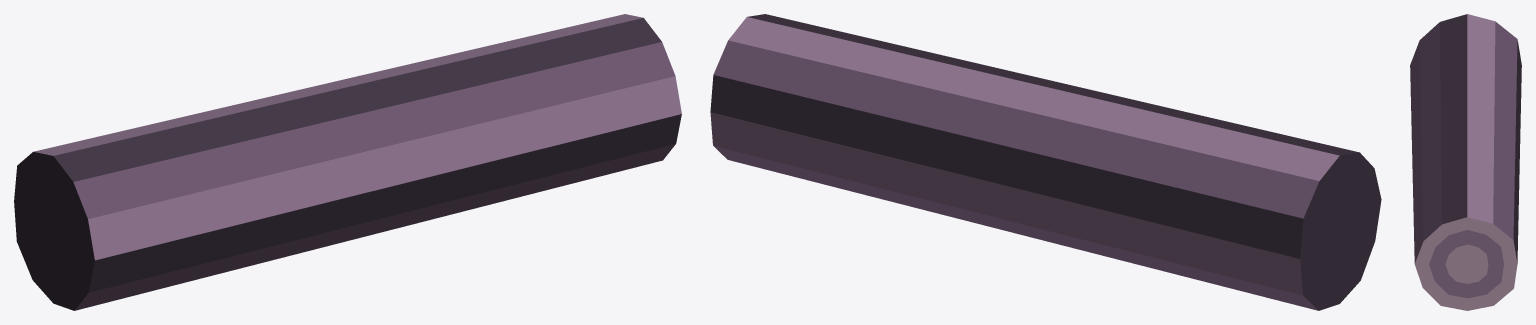
The model's file is TW_LOG_CUT_2M_A_LOD0.glb.
3 renders of one model, left to right at view 1: azimuth 30°, elevation 25°; view 2: azimuth 150°, elevation 25°; view 3: azimuth 270°, elevation 25°, orthographic. The views are drawn at different scales.
Parts seen in each view (by area): view 1: TW_LOG_CUT_2M_A_LOD0; view 2: TW_LOG_CUT_2M_A_LOD0; view 3: TW_LOG_CUT_2M_A_LOD0.
Boxes of the visible parts, x1,y1,x2,y2 form: TW_LOG_CUT_2M_A_LOD0: (14,14,681,310); TW_LOG_CUT_2M_A_LOD0: (710,14,1381,310); TW_LOG_CUT_2M_A_LOD0: (1410,14,1521,310).
Size of the model in its own units: 2 by 0.478 by 0.4747.
Materials: 1 (1 with a texture image).
